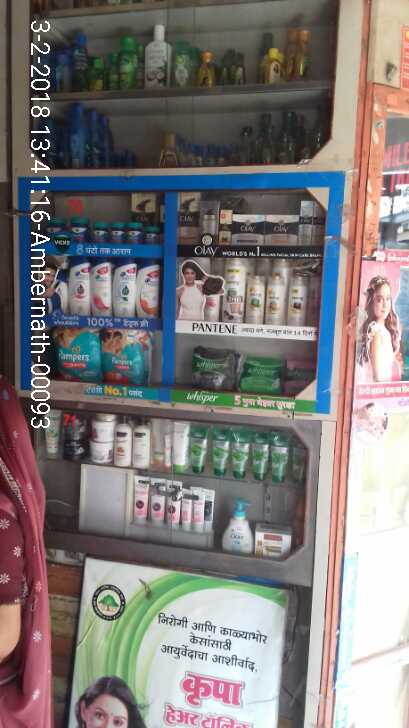beauty: (134, 257, 161, 323), (223, 257, 246, 324), (90, 257, 111, 318), (114, 259, 135, 320), (68, 259, 90, 315), (246, 271, 269, 324), (288, 271, 309, 327), (176, 193, 199, 243), (232, 213, 265, 243), (263, 217, 296, 244), (266, 276, 279, 322), (201, 201, 215, 238)
pharmacy: (97, 327, 155, 380), (51, 327, 99, 382), (190, 347, 236, 390), (238, 354, 281, 399), (283, 362, 310, 395), (67, 218, 90, 245), (42, 217, 62, 238), (90, 222, 106, 243), (124, 222, 139, 243), (109, 222, 122, 243), (139, 228, 156, 241)
